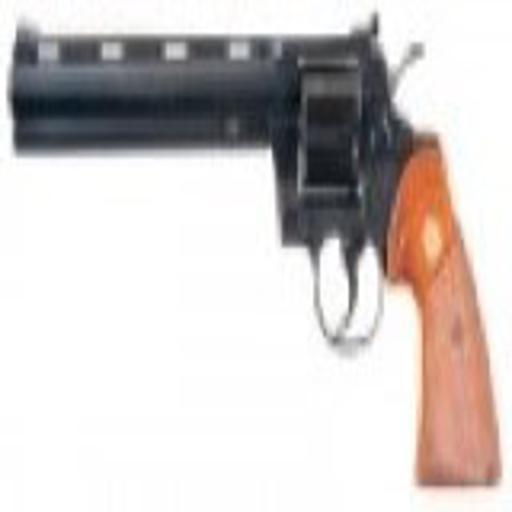Handgun: (5, 11, 501, 493)
